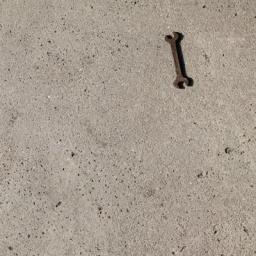FOD: (162, 27, 201, 93)
